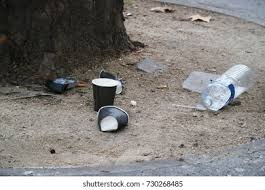paper: (87, 72, 122, 115), (90, 103, 133, 135), (45, 73, 79, 99), (96, 62, 121, 87)
plastic: (187, 51, 262, 117)
